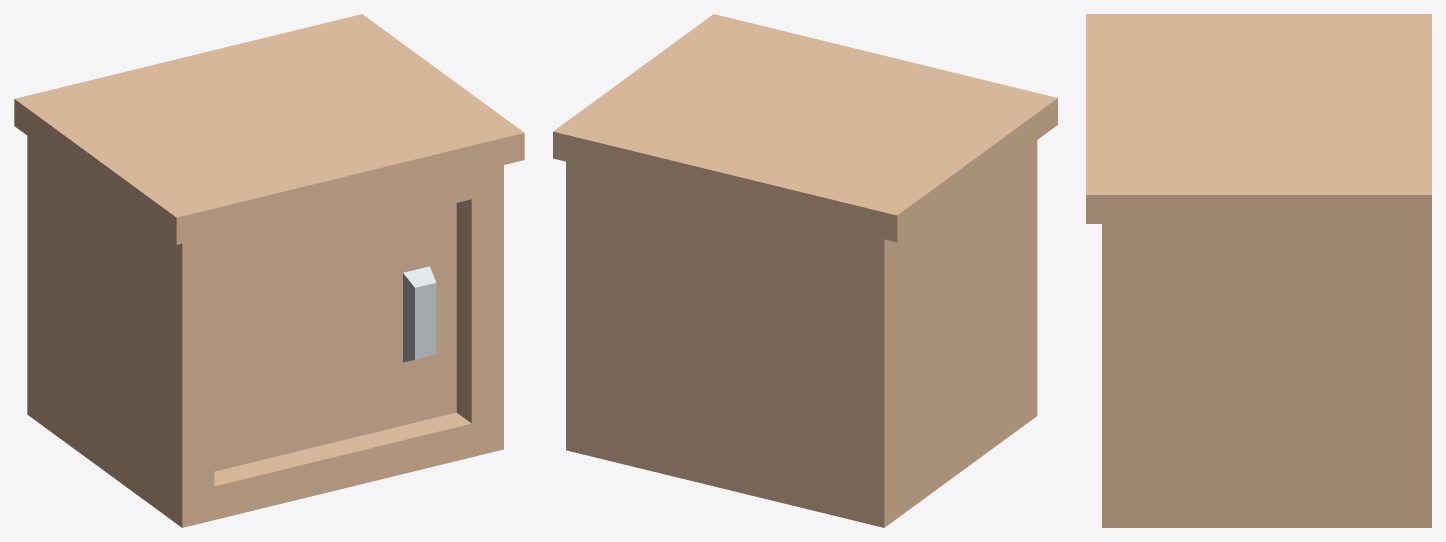
The model's file is cabinetBed.glb.
The picture shows the model from 3 angles, left to right: view 1: azimuth 30°, elevation 25°; view 2: azimuth 150°, elevation 25°; view 3: azimuth 270°, elevation 25°; orthographic projection. The views are drawn at different scales.
Parts seen in each view (by area): view 1: cabinetBed; view 2: cabinetBed; view 3: cabinetBed.
Boxes of the visible parts, x1,y1,x2,y2 form: cabinetBed: (14, 14, 524, 527); cabinetBed: (553, 14, 1057, 527); cabinetBed: (1086, 14, 1431, 527).
Bounding box in the file's own units: 0.2661 × 0.2332 × 0.2151.
